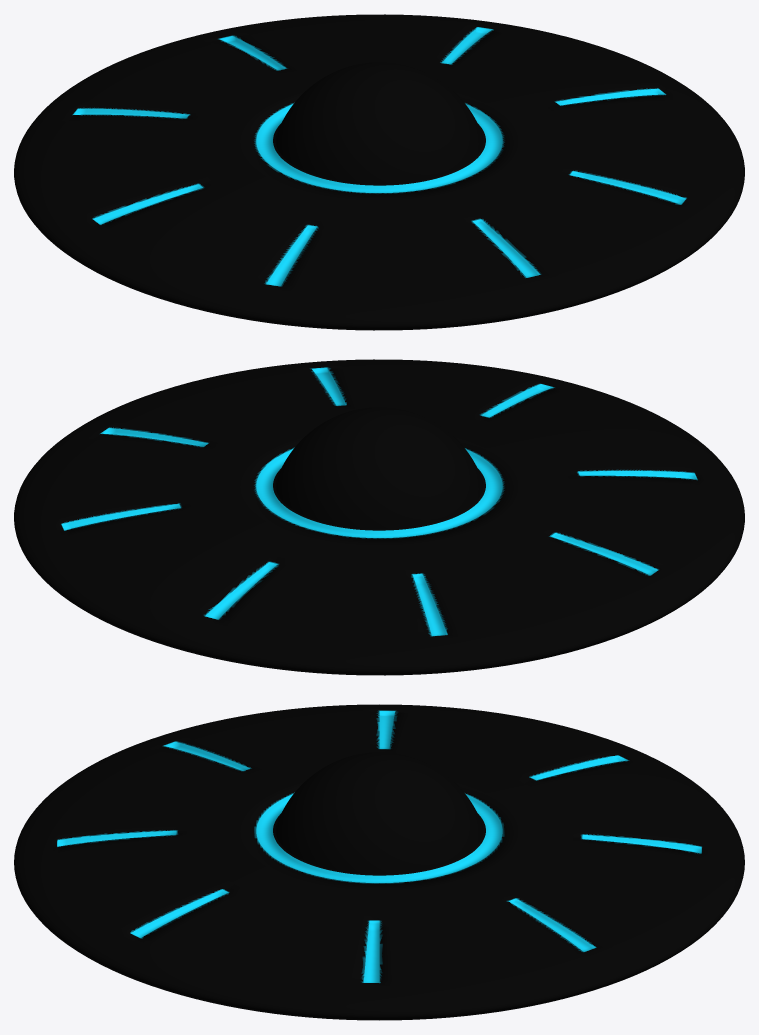
Rendered from UFO.gltf.
The picture shows the model from 3 angles, top to bottom: view 1: azimuth 30°, elevation 25°; view 2: azimuth 150°, elevation 25°; view 3: azimuth 270°, elevation 25°; orthographic projection.
Visible parts, largest first — view 1: UFO; view 2: UFO; view 3: UFO.
Part boxes in pixels (left/top/right/bottom): UFO: left=14, top=14, right=744, bottom=330; UFO: left=14, top=359, right=744, bottom=675; UFO: left=14, top=704, right=744, bottom=1020.
Bounding box in the file's own units: 9.87 × 2 × 9.87.
Materials: 1 (1 with a texture image).
